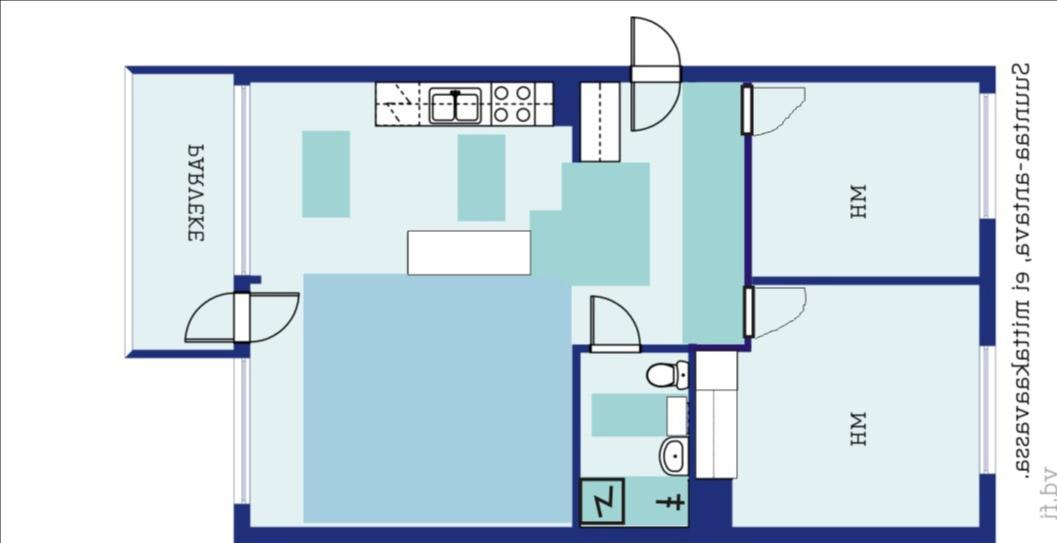door: (626, 64, 684, 134), (740, 82, 812, 138), (181, 287, 251, 344), (743, 283, 809, 342), (233, 288, 302, 344), (629, 14, 684, 82), (584, 290, 642, 353)
window: (228, 78, 254, 280), (231, 350, 254, 512), (975, 339, 999, 481), (976, 88, 1000, 225)
